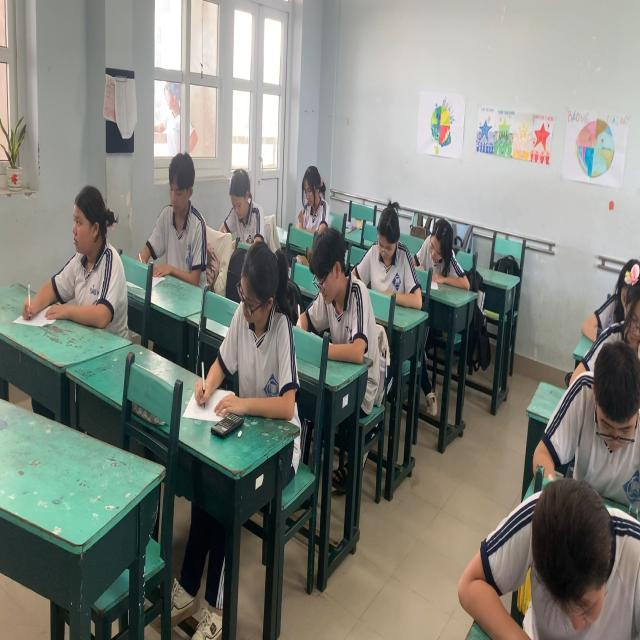not_cheating: (485, 479, 640, 628), (301, 217, 374, 384), (570, 336, 640, 500), (55, 183, 126, 336), (233, 239, 293, 412), (364, 186, 420, 318), (161, 148, 205, 277), (218, 153, 268, 246), (425, 209, 469, 311), (598, 258, 640, 358), (292, 157, 333, 241)
